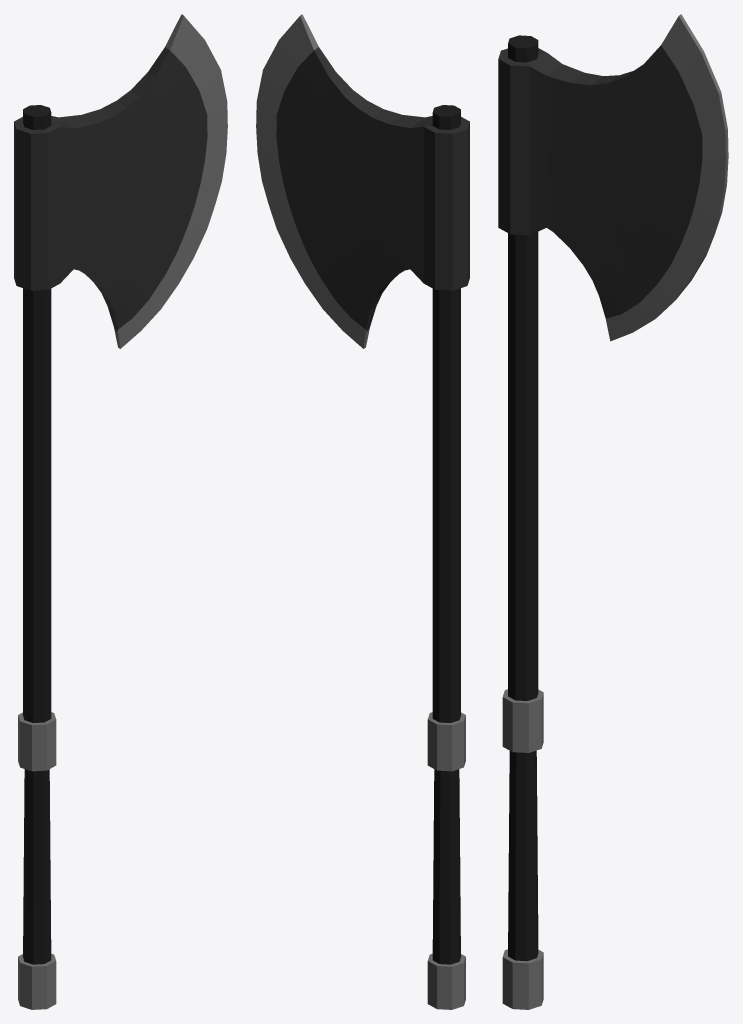
The model's file is two_handed_axe_2.fbx.
3 views of the same model, side by side, from view 1: azimuth 30°, elevation 25°; view 2: azimuth 150°, elevation 25°; view 3: azimuth 330°, elevation 25° (orthographic). The views are drawn at different scales.
Parts seen in each view (by area): view 1: two_handed_axe_2; view 2: two_handed_axe_2; view 3: two_handed_axe_2.
Boxes of the visible parts, box(x1,y1,x2,y2) form: two_handed_axe_2: box(14, 14, 227, 1009); two_handed_axe_2: box(256, 14, 469, 1009); two_handed_axe_2: box(498, 14, 728, 1009).
Size of the model in its own units: 0.4562 by 1.97 by 0.0897.
Materials: 1 (1 with a texture image).
